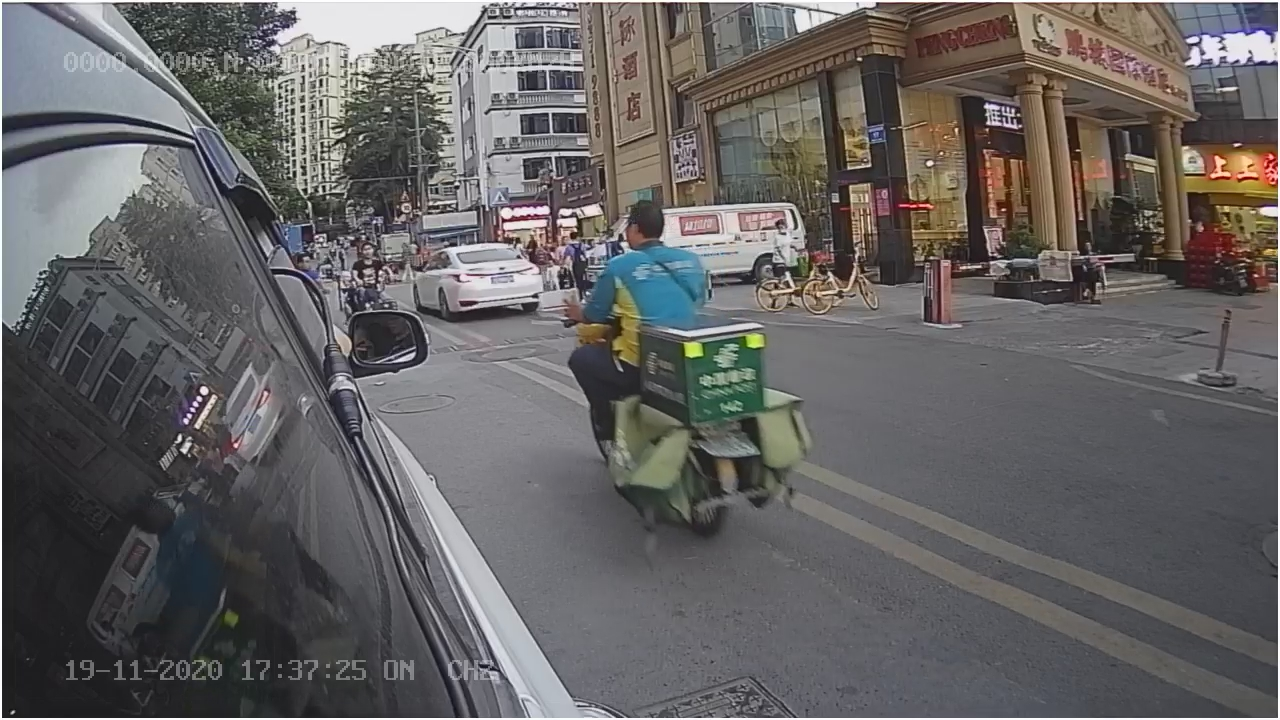person: (582, 210, 712, 319)
